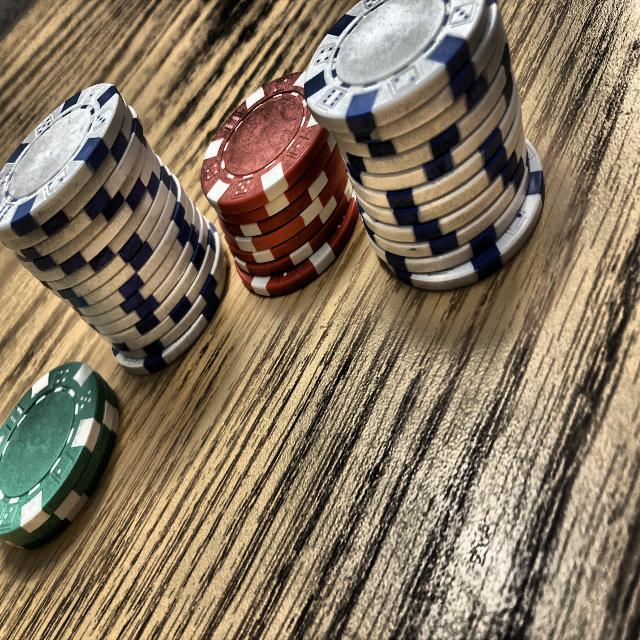Chip: (283, 1, 584, 312), (4, 68, 275, 392), (182, 70, 400, 328), (0, 336, 142, 574)
